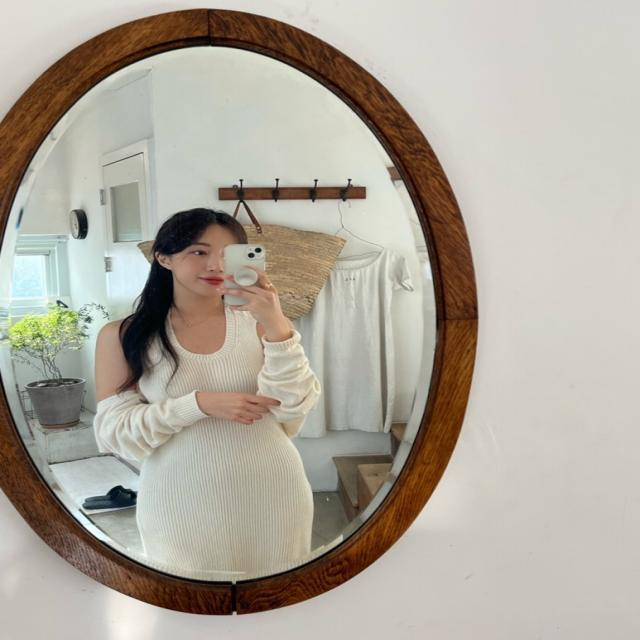phone: (223, 244, 265, 306)
